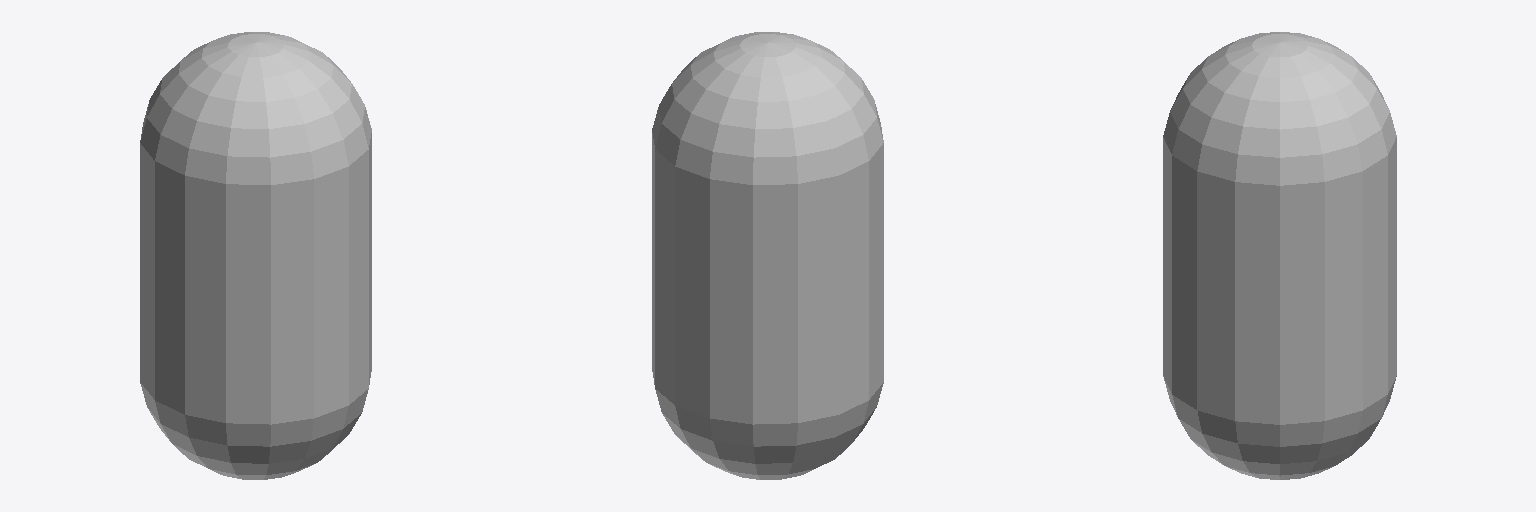
Rendered from body.obj.
3 views of the same model, side by side, from view 1: azimuth 30°, elevation 25°; view 2: azimuth 150°, elevation 25°; view 3: azimuth 270°, elevation 25° (orthographic).
Visible parts, largest first — view 1: Sphere; view 2: Sphere; view 3: Sphere.
Boxes of the visible parts, x1=… form: Sphere: x1=140, y1=32, x2=371, y2=479; Sphere: x1=652, y1=32, x2=883, y2=479; Sphere: x1=1163, y1=32, x2=1396, y2=479.
Size of the model in its own units: 0.9927 by 2 by 0.9927.